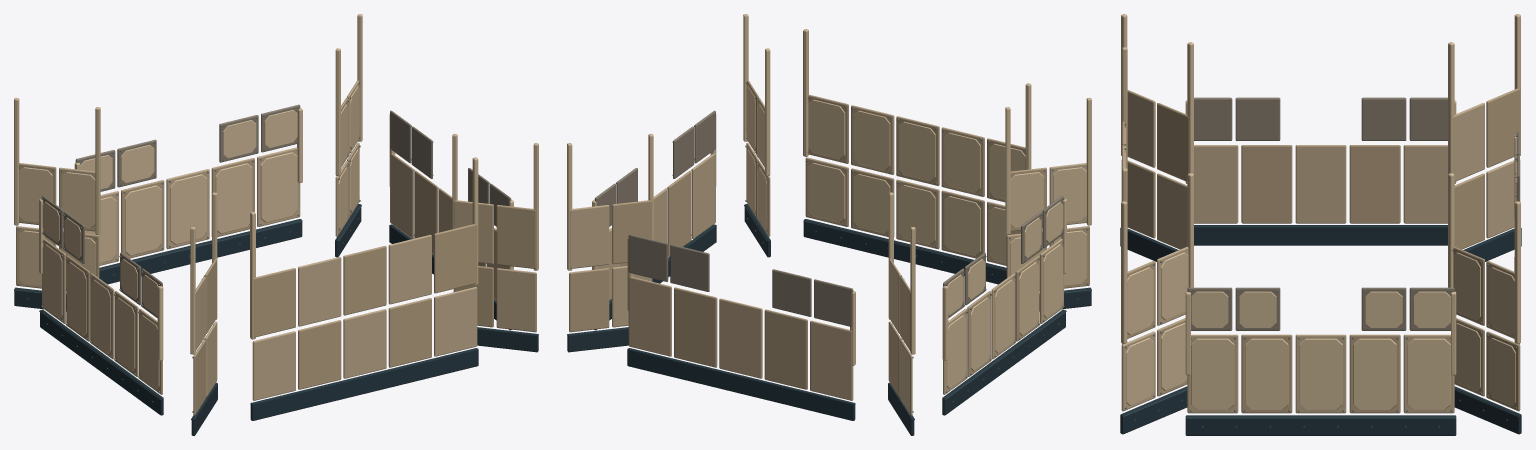
Rendered from cabin_wall_panels.glb.
The picture shows the model from 3 angles, left to right: view 1: azimuth 30°, elevation 25°; view 2: azimuth 150°, elevation 25°; view 3: azimuth 270°, elevation 25°; orthographic projection. The views are drawn at different scales.
Visible parts, largest first — view 1: cabin_wall_panels; view 2: cabin_wall_panels; view 3: cabin_wall_panels.
Boxes of the visible parts, box(x1,y1,x2,y2) form: cabin_wall_panels: box(14, 14, 538, 435); cabin_wall_panels: box(567, 14, 1091, 435); cabin_wall_panels: box(1120, 14, 1521, 435).
Bounding box in the file's own units: 4.23 × 2.37 × 3.71.
